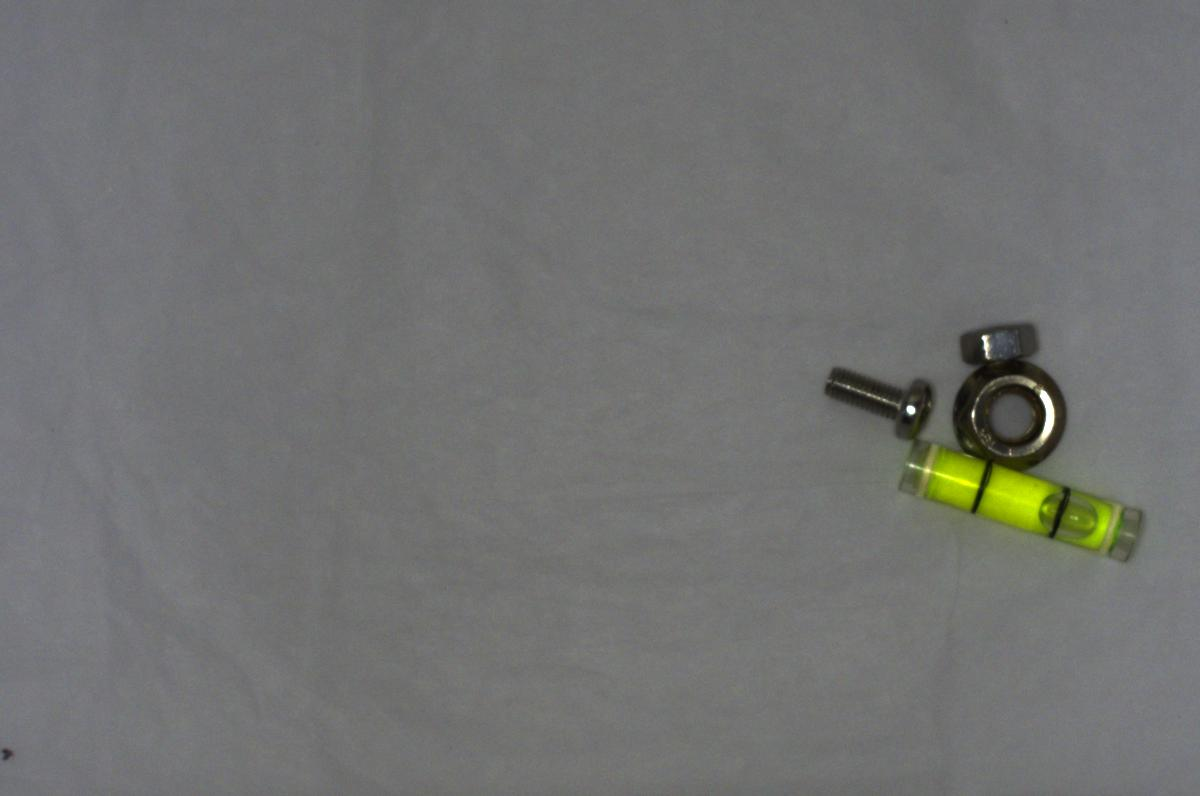Flange nut: (946, 347, 1065, 478)
Hexagon nut: (948, 308, 1050, 367)
Horizontal bubble: (895, 434, 1151, 565)
Round head screw: (814, 355, 934, 440)
